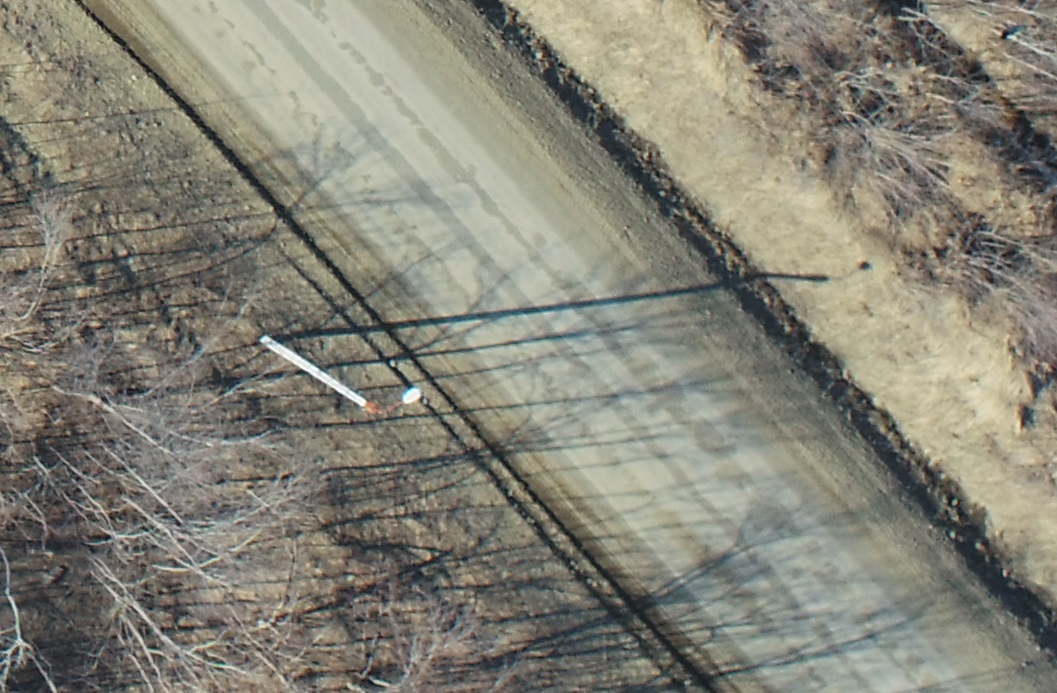opora: (261, 305, 432, 417)
